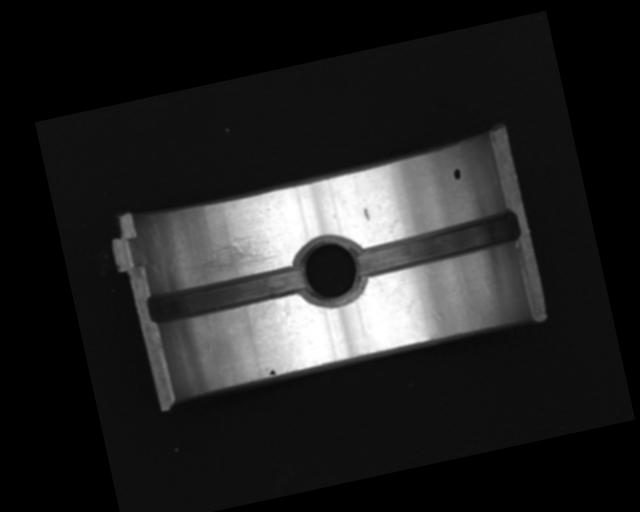blot: (452, 167, 462, 182), (266, 367, 276, 378)
bruise: (362, 205, 371, 222)
gap: (351, 208, 524, 279), (145, 261, 308, 327)
hole: (291, 227, 371, 313)
scratch: (180, 232, 285, 284)
